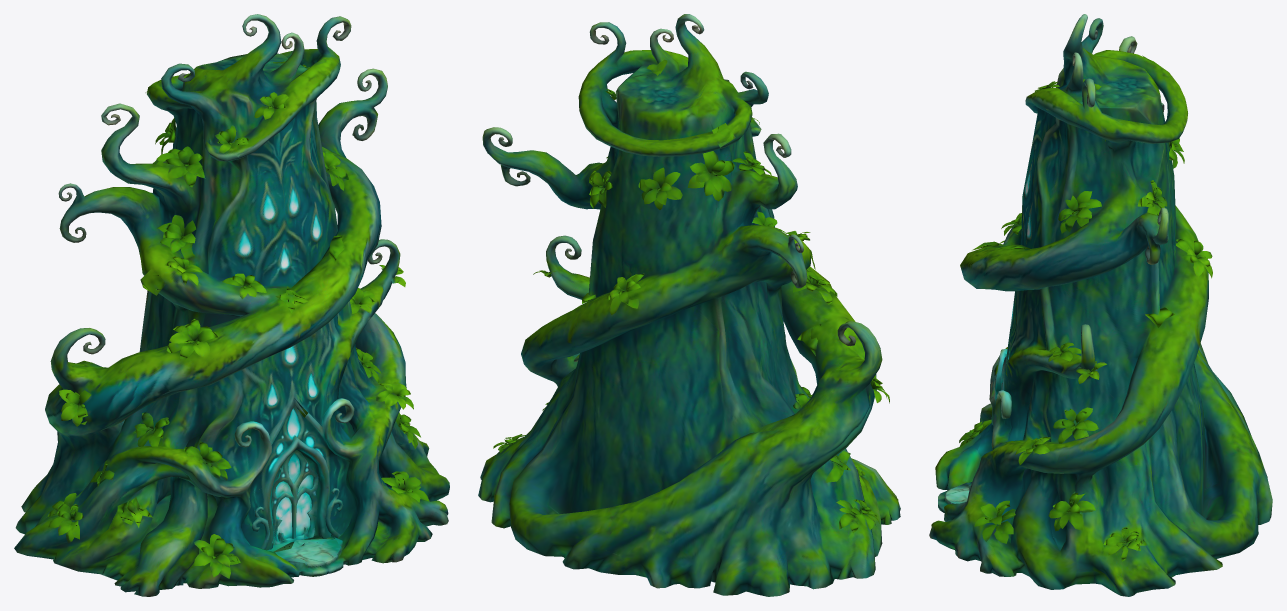
The model's file is palace.glb.
3 views of the same model, side by side, from view 1: azimuth 30°, elevation 25°; view 2: azimuth 150°, elevation 25°; view 3: azimuth 270°, elevation 25° (orthographic). The views are drawn at different scales.
Visible parts, largest first — view 1: geometry_0; view 2: geometry_0; view 3: geometry_0.
Boxes of the visible parts, x1,y1,x2,y2 form: geometry_0: [14, 14, 449, 596]; geometry_0: [478, 14, 900, 596]; geometry_0: [929, 14, 1272, 596].
Size of the model in its own units: 0.8018 by 0.9521 by 0.605.
1 material, 1 textured.
